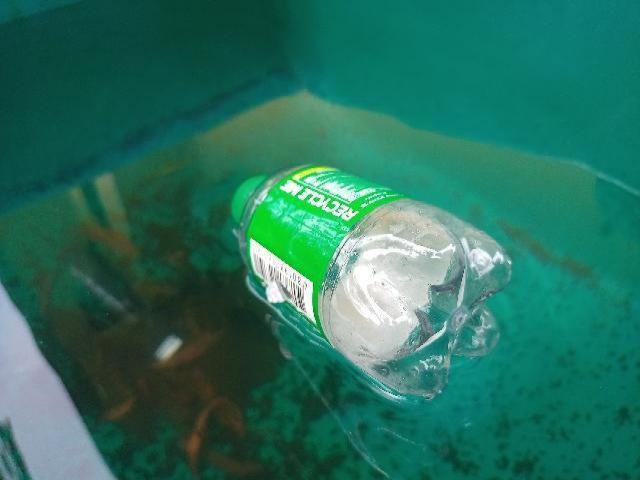Bottle: (219, 156, 524, 406)
